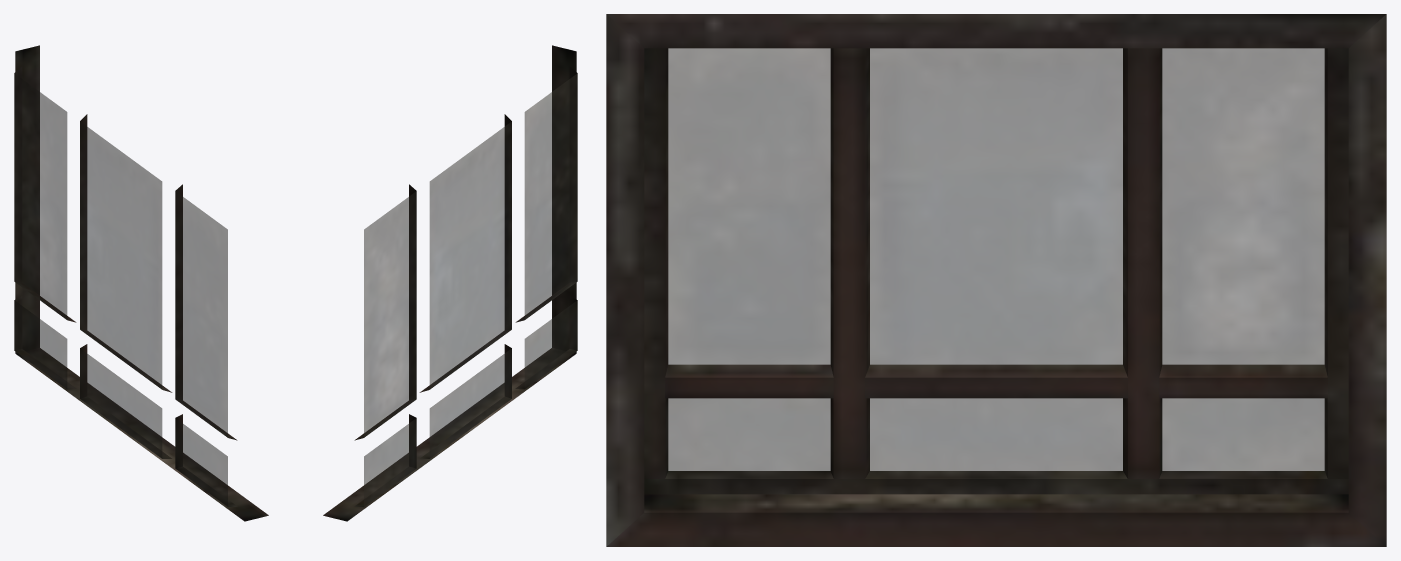
The model's file is TripleWindow.FBX.
3 views of the same model, side by side, from view 1: azimuth 30°, elevation 25°; view 2: azimuth 150°, elevation 25°; view 3: azimuth 270°, elevation 25° (orthographic). The views are drawn at different scales.
Visible parts, largest first — view 1: TripleWindow; view 2: TripleWindow; view 3: TripleWindow.
Boxes of the visible parts, bbox=[...] form: TripleWindow: bbox=[14, 45, 268, 521]; TripleWindow: bbox=[323, 45, 577, 521]; TripleWindow: bbox=[606, 14, 1386, 546].
Size of the model in its own units: 20.42 by 202 by 269.
Materials: 2 (2 with a texture image).
